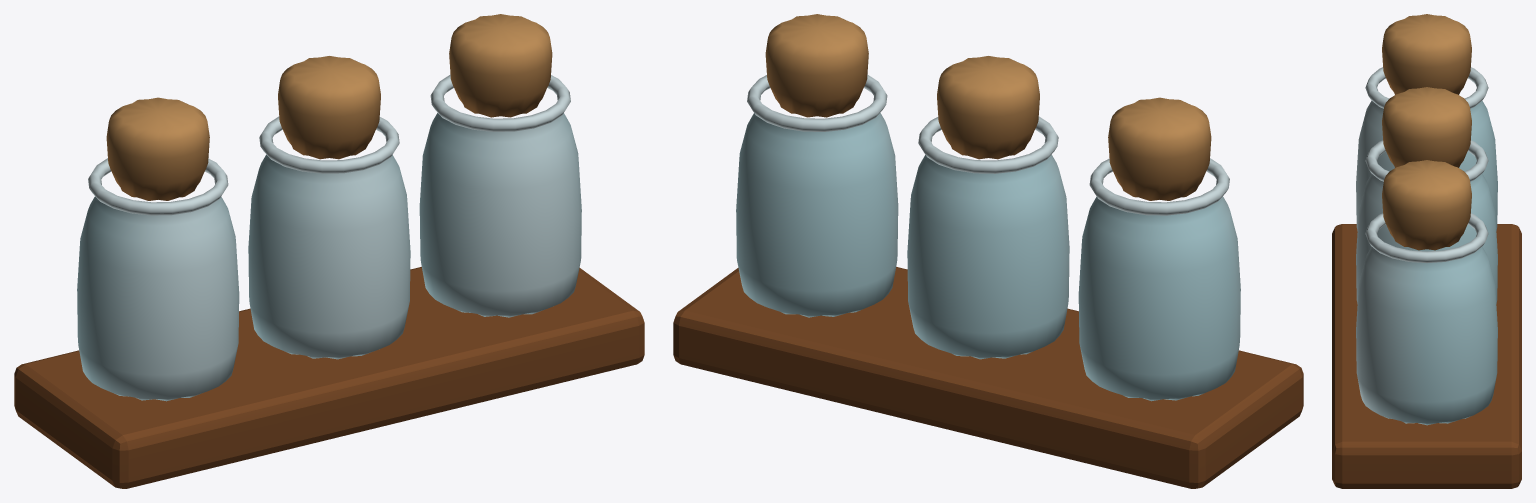
File: bottles.glb
3 renders of one model, left to right at view 1: azimuth 30°, elevation 25°; view 2: azimuth 150°, elevation 25°; view 3: azimuth 270°, elevation 25°, orthographic. The views are drawn at different scales.
Visible parts, largest first — view 1: bottles, bottles_glass; view 2: bottles, bottles_glass; view 3: bottles, bottles_glass.
Boxes of the visible parts, x1,y1,x2,y2 form: bottles: (14,14,644,488); bottles_glass: (77,113,581,401); bottles: (673,14,1303,488); bottles_glass: (736,113,1240,401); bottles: (1332,14,1521,488); bottles_glass: (1356,100,1497,425).
Size of the model in its own units: 0.62 by 0.3592 by 0.22.
